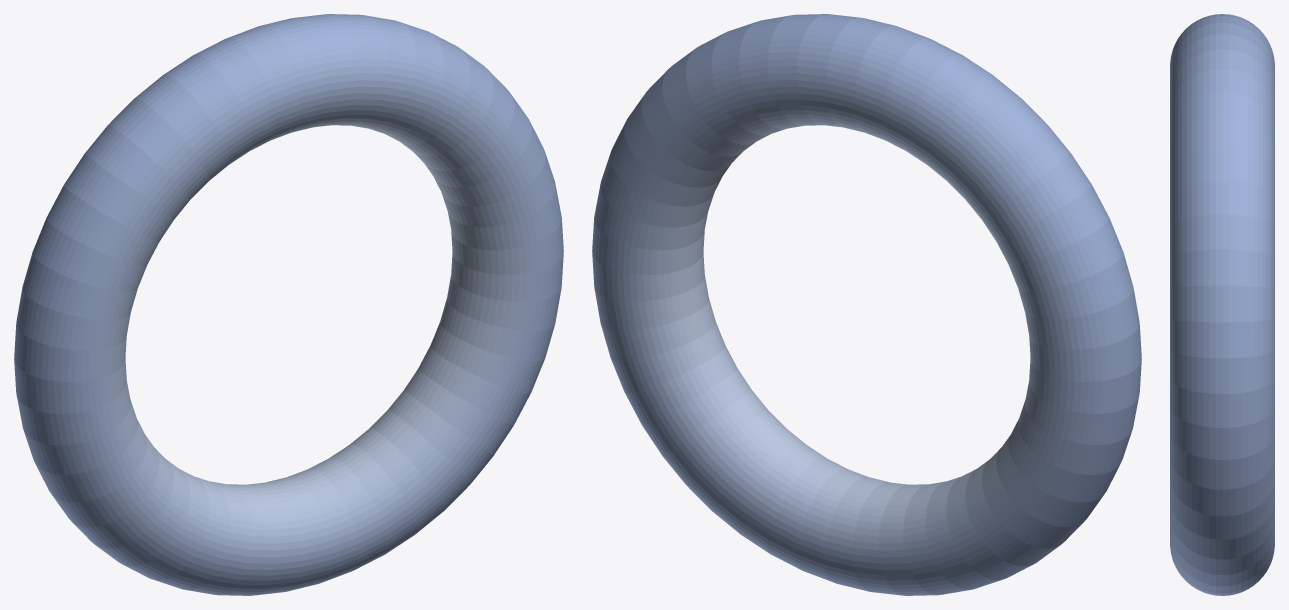
3 views of the same model, side by side, from view 1: azimuth 30°, elevation 25°; view 2: azimuth 150°, elevation 25°; view 3: azimuth 270°, elevation 25° (orthographic). The views are drawn at different scales.
Visible parts, largest first — view 1: world; view 2: world; view 3: world.
Boxes of the visible parts, x1,y1,x2,y2 form: world: (14, 14, 563, 595); world: (592, 14, 1141, 595); world: (1170, 14, 1274, 595).
Size of the model in its own units: 24.4 by 24.35 by 4.39.
